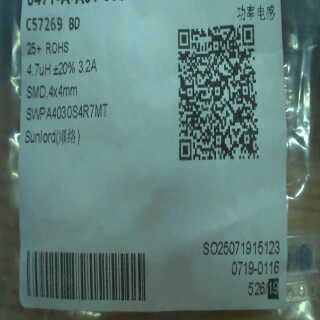4.7uH: (25, 61, 52, 80)
